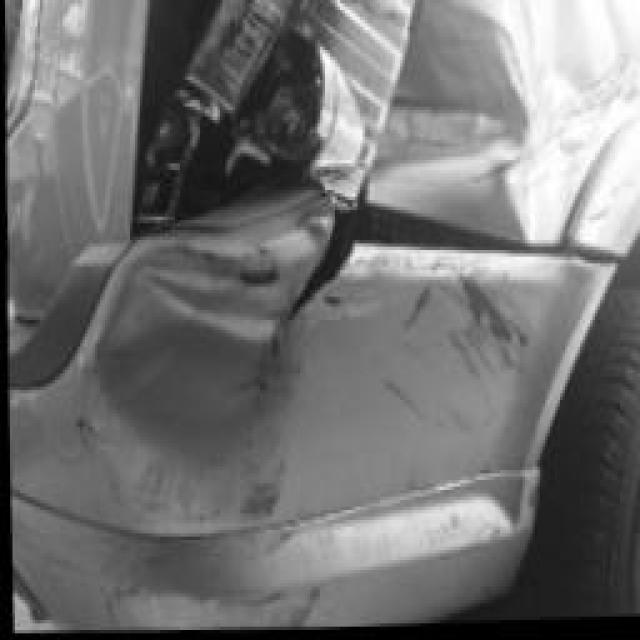Bumper: (29, 190, 616, 632)
Fender: (363, 0, 640, 258)
Light: (130, 0, 419, 230)
